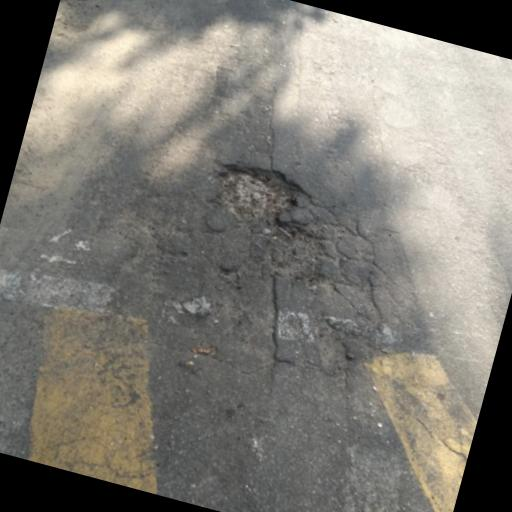pothole: (196, 150, 316, 242), (251, 214, 334, 289), (302, 318, 362, 386)
